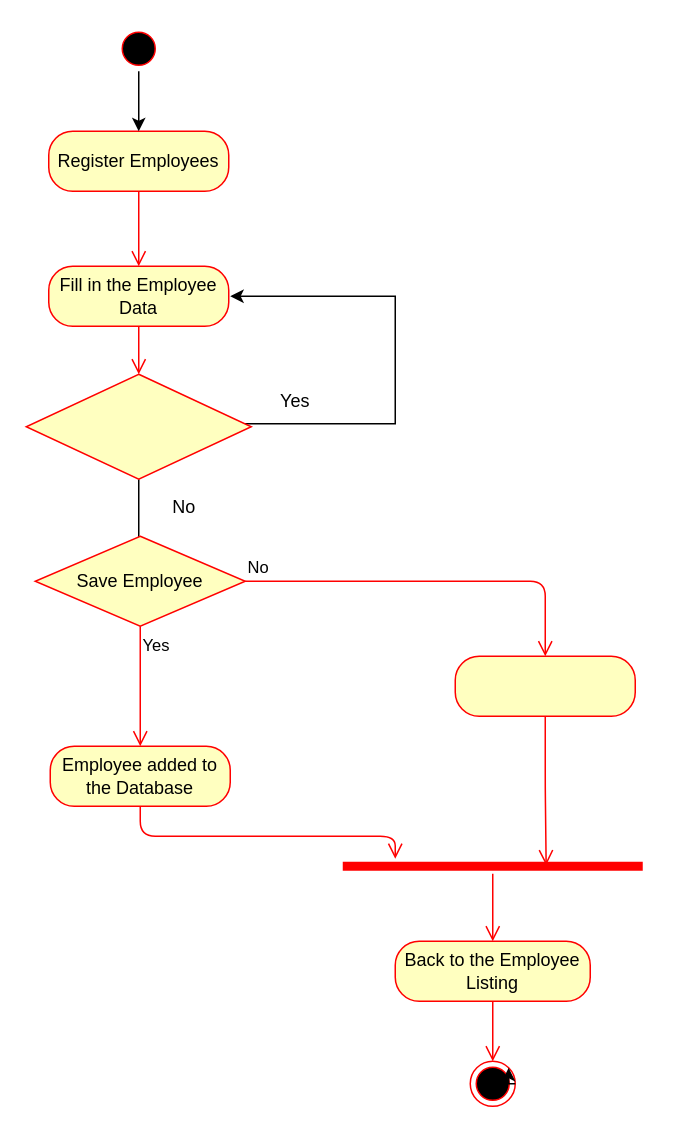
This 674x1133 diagram has some shape labels left out. Each missing label, with the centre of its shape:
"Cancel" goes at (x=544, y=685).
"Invalid Input or Empty Fields" goes at (x=138, y=426).
